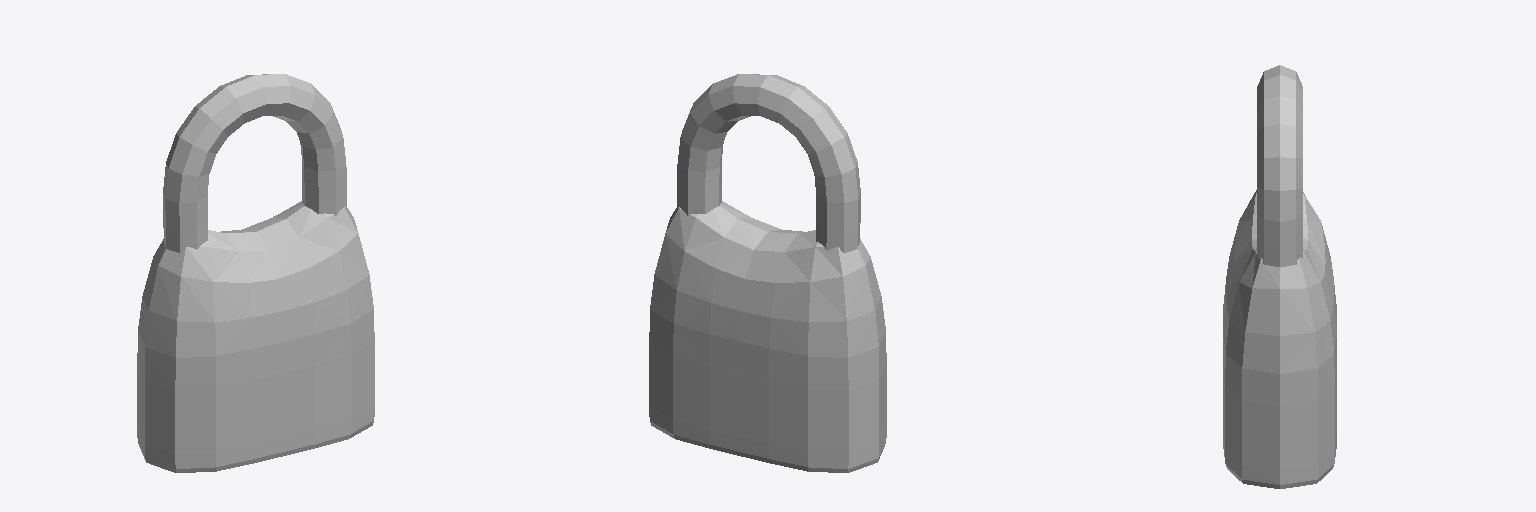
Rendered from Old_Pad_Lock.obj.
3 views of the same model, side by side, from view 1: azimuth 30°, elevation 25°; view 2: azimuth 150°, elevation 25°; view 3: azimuth 270°, elevation 25° (orthographic).
Parts seen in each view (by area): view 1: LP_OldPadLock_Cylinder.002; view 2: LP_OldPadLock_Cylinder.002; view 3: LP_OldPadLock_Cylinder.002.
Boxes of the visible parts, box(x1,y1,x2,y2) form: LP_OldPadLock_Cylinder.002: box(137, 74, 374, 472); LP_OldPadLock_Cylinder.002: box(649, 74, 886, 472); LP_OldPadLock_Cylinder.002: box(1223, 65, 1336, 488).
Bounding box in the file's own units: 1.78 × 2.76 × 0.7893.